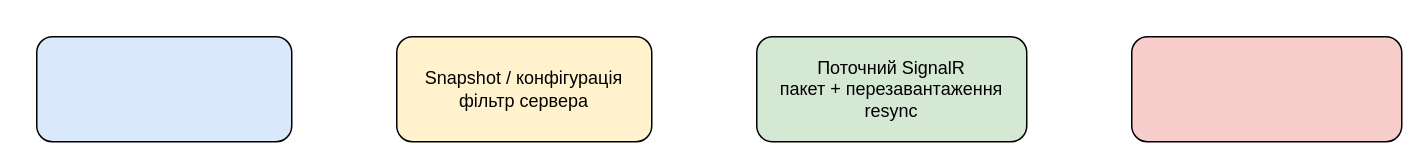
This 1428x168 diagram has some shape labels left out. Each missing label, with the centre of its shape:
Деталі / history replay у браузері: point 1266,88
Маршрут + фільтри hash URL: point 163,88
